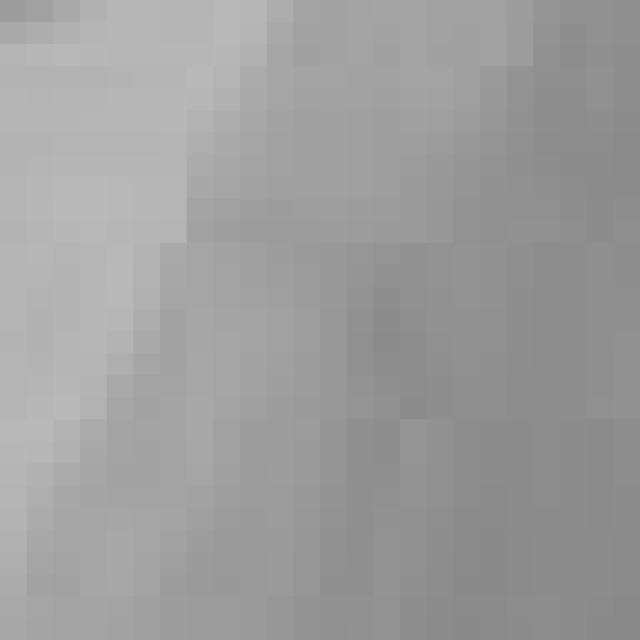fracture: (30, 3, 640, 640)
